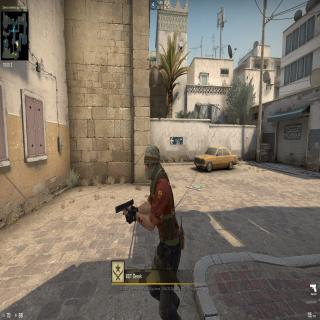T-Head: (142, 142, 162, 182)
